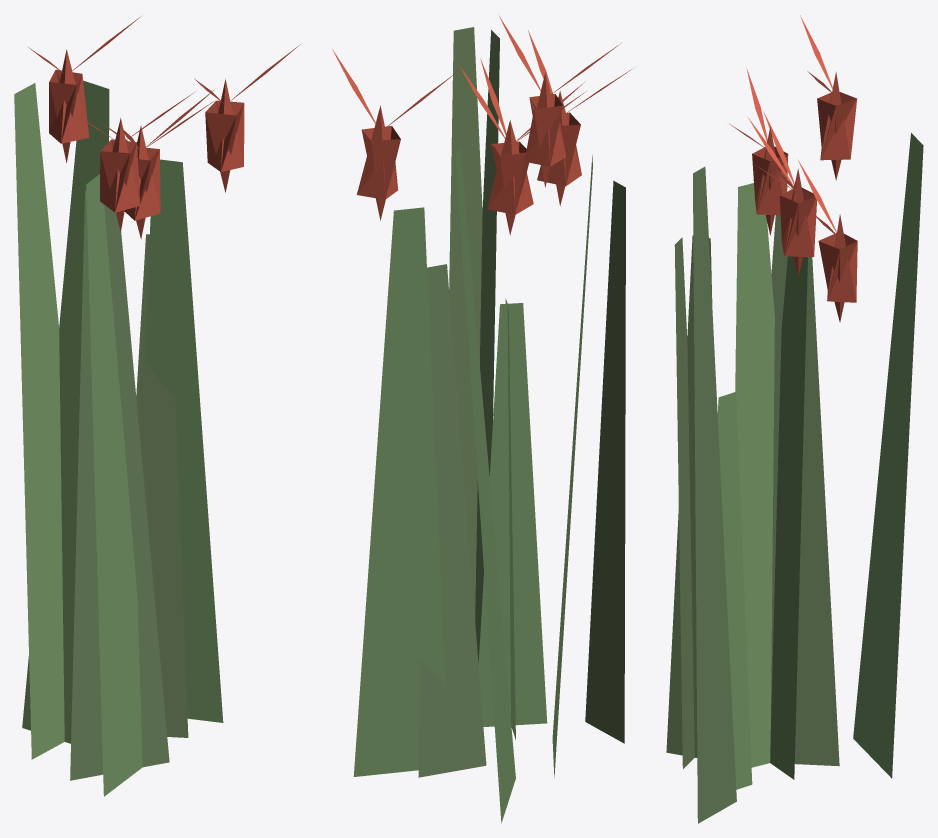
File: cao.luwei@fruiting__summer.glb
The picture shows the model from 3 angles, left to right: view 1: azimuth 30°, elevation 25°; view 2: azimuth 150°, elevation 25°; view 3: azimuth 270°, elevation 25°; orthographic projection. The views are drawn at different scales.
Parts seen in each view (by area): view 1: cao.luwei@fruiting__summer; view 2: cao.luwei@fruiting__summer; view 3: cao.luwei@fruiting__summer.
Boxes of the visible parts, x1=… form: cao.luwei@fruiting__summer: x1=14, y1=16, x2=300, y2=796; cao.luwei@fruiting__summer: x1=332, y1=16, x2=631, y2=823; cao.luwei@fruiting__summer: x1=666, y1=15, x2=923, y2=823.
Bounding box in the file's own units: 1.07 × 2.69 × 0.8822.
